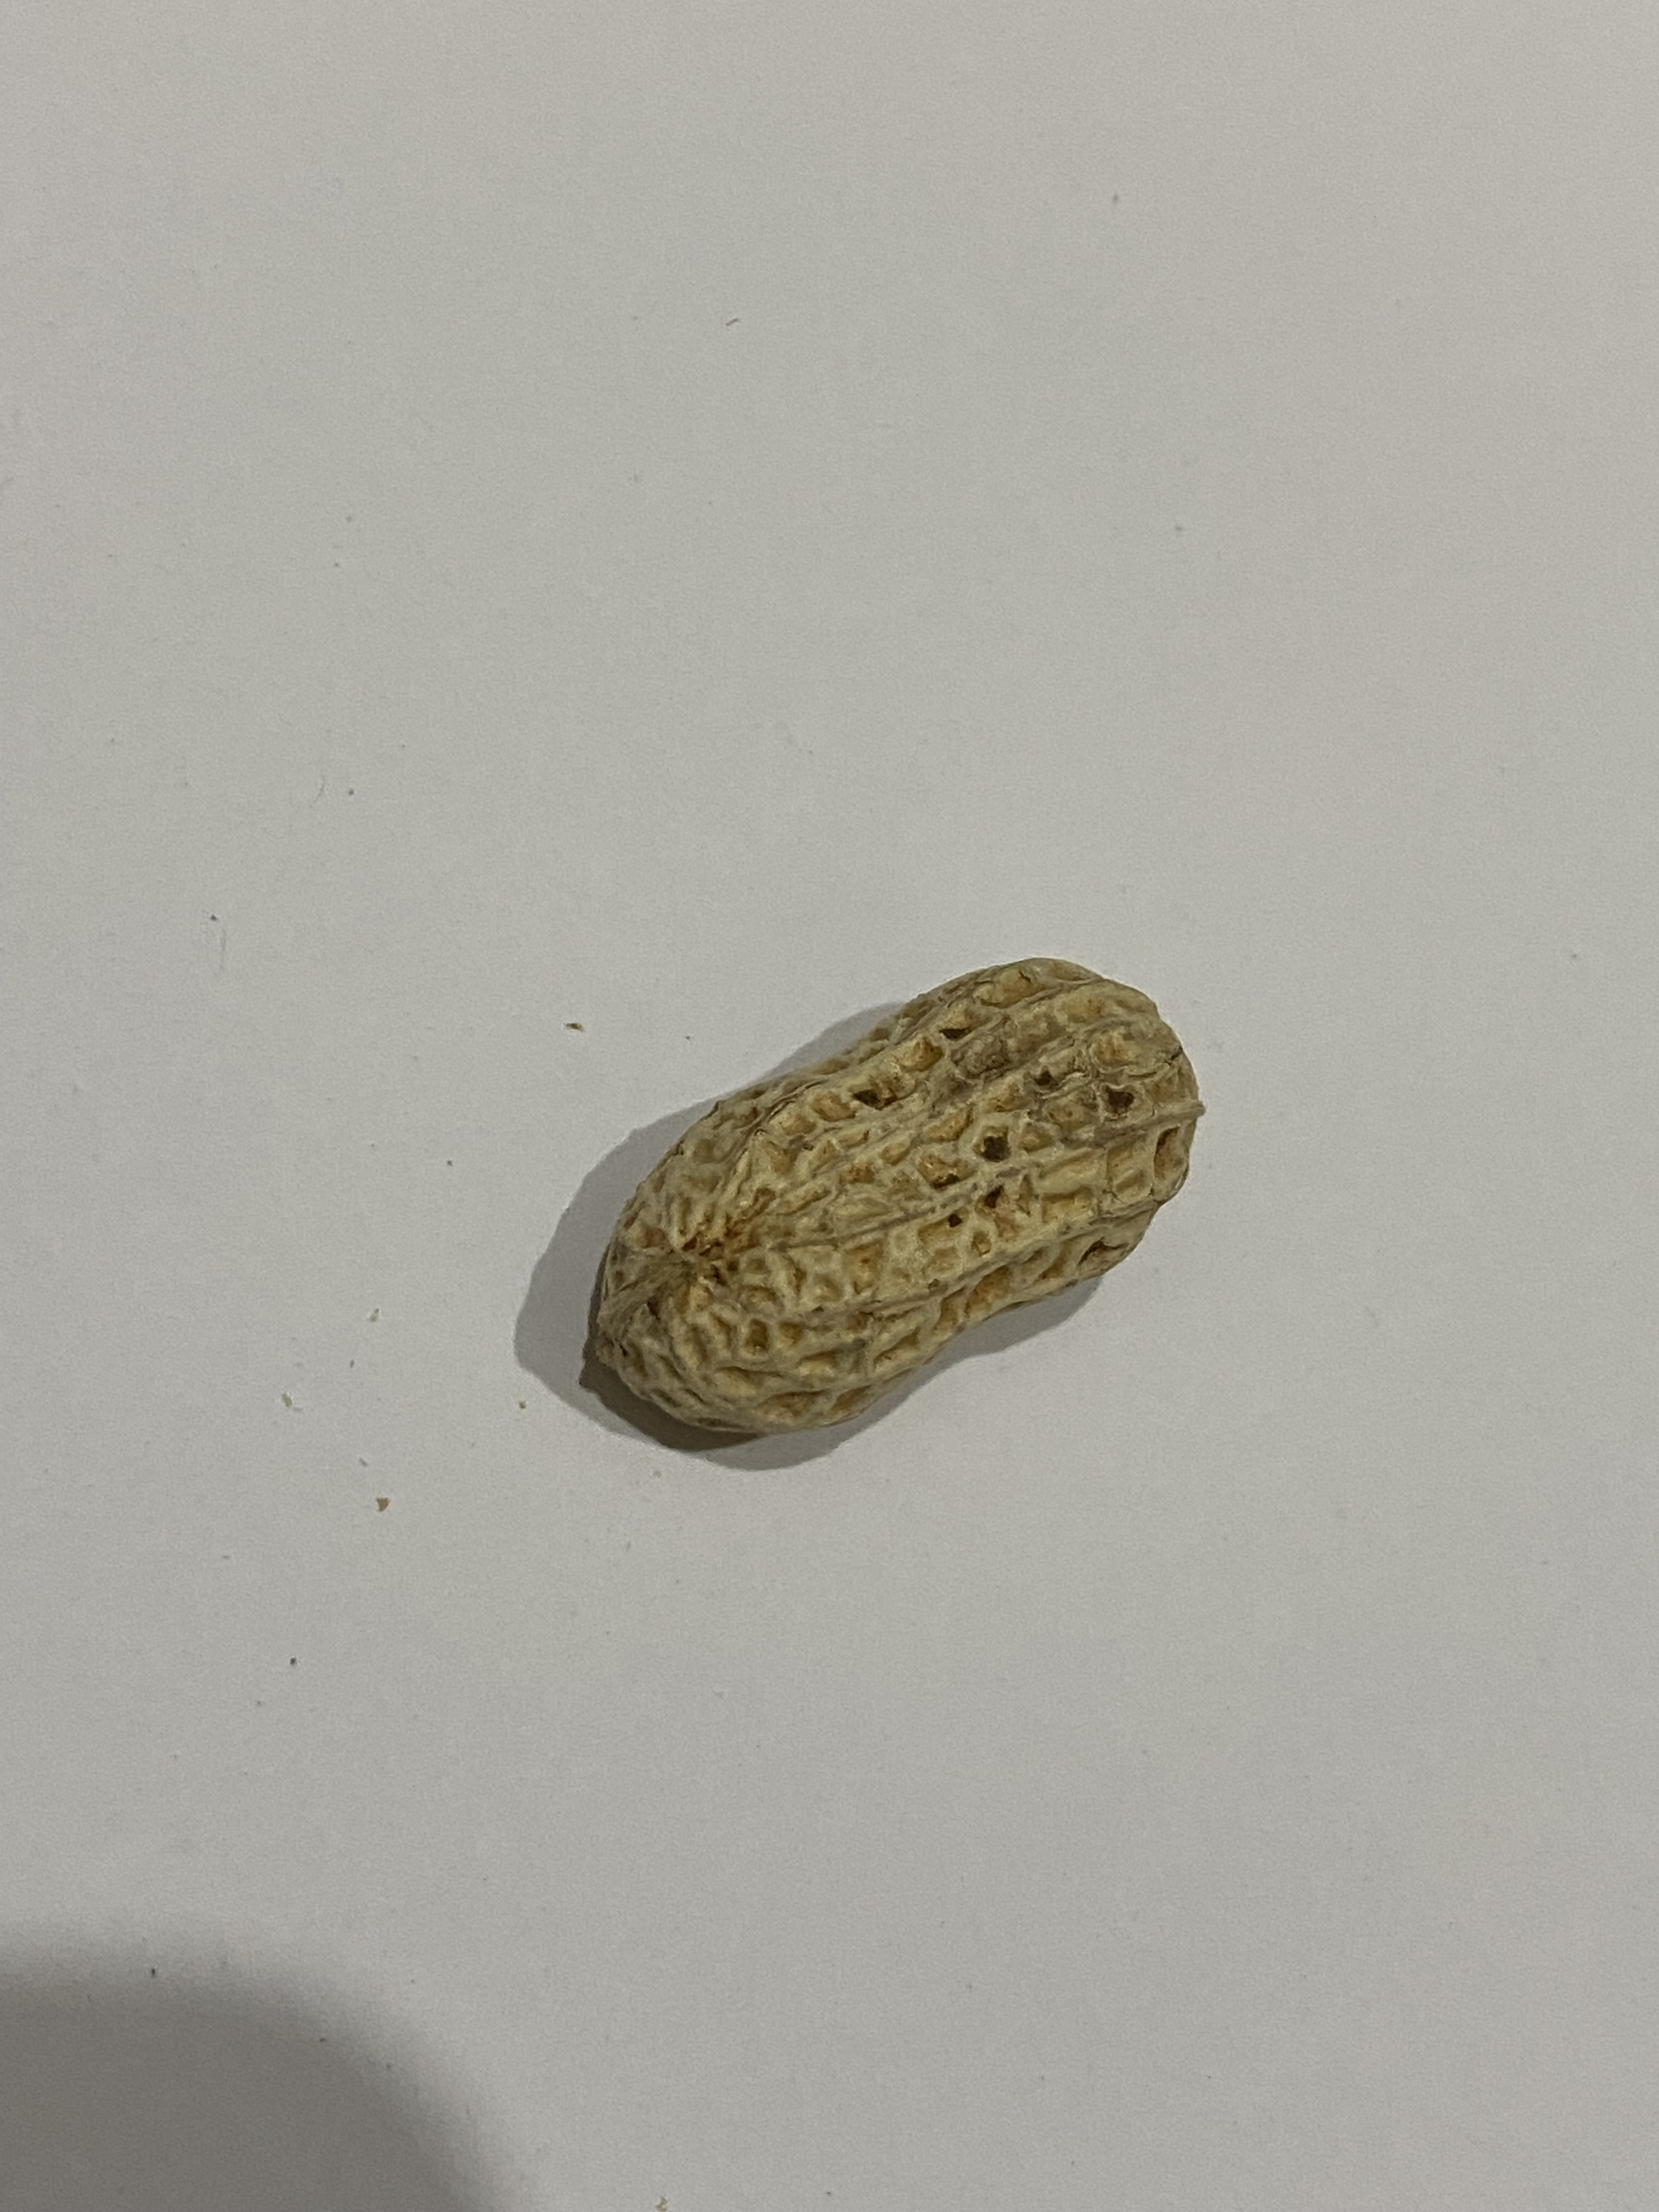kacang2: (542, 944, 1222, 1449)
